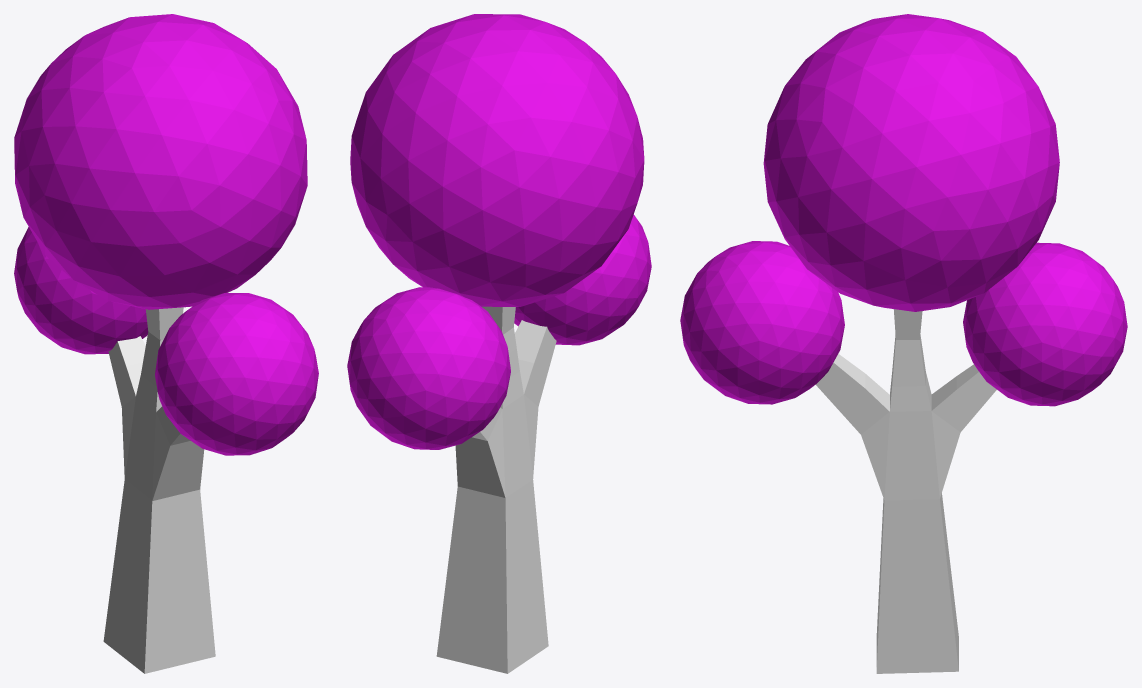
The model's file is SweerTrees1.fbx.
3 renders of one model, left to right at view 1: azimuth 30°, elevation 25°; view 2: azimuth 150°, elevation 25°; view 3: azimuth 270°, elevation 25°, orthographic.
Visible parts, largest first — view 1: Icosphere.018, Cube.003, Icosphere.015, Icosphere.019; view 2: Icosphere.018, Cube.003, Icosphere.019, Icosphere.015; view 3: Icosphere.018, Cube.003, Icosphere.015, Icosphere.019.
Part boxes in pixels (x1=…): Icosphere.018: x1=14, y1=14, x2=307, y2=309; Cube.003: x1=103, y1=307, x2=215, y2=673; Icosphere.015: x1=155, y1=293, x2=318, y2=455; Icosphere.019: x1=14, y1=227, x2=148, y2=354; Icosphere.018: x1=350, y1=14, x2=644, y2=306; Cube.003: x1=436, y1=306, x2=556, y2=673; Icosphere.019: x1=347, y1=287, x2=510, y2=449; Icosphere.015: x1=514, y1=214, x2=651, y2=345; Icosphere.018: x1=763, y1=14, x2=1059, y2=311; Cube.003: x1=815, y1=309, x2=996, y2=673; Icosphere.015: x1=680, y1=241, x2=844, y2=404; Icosphere.019: x1=963, y1=242, x2=1127, y2=406.
Size of the model in its own units: 1.51 by 3.53 by 2.28.
